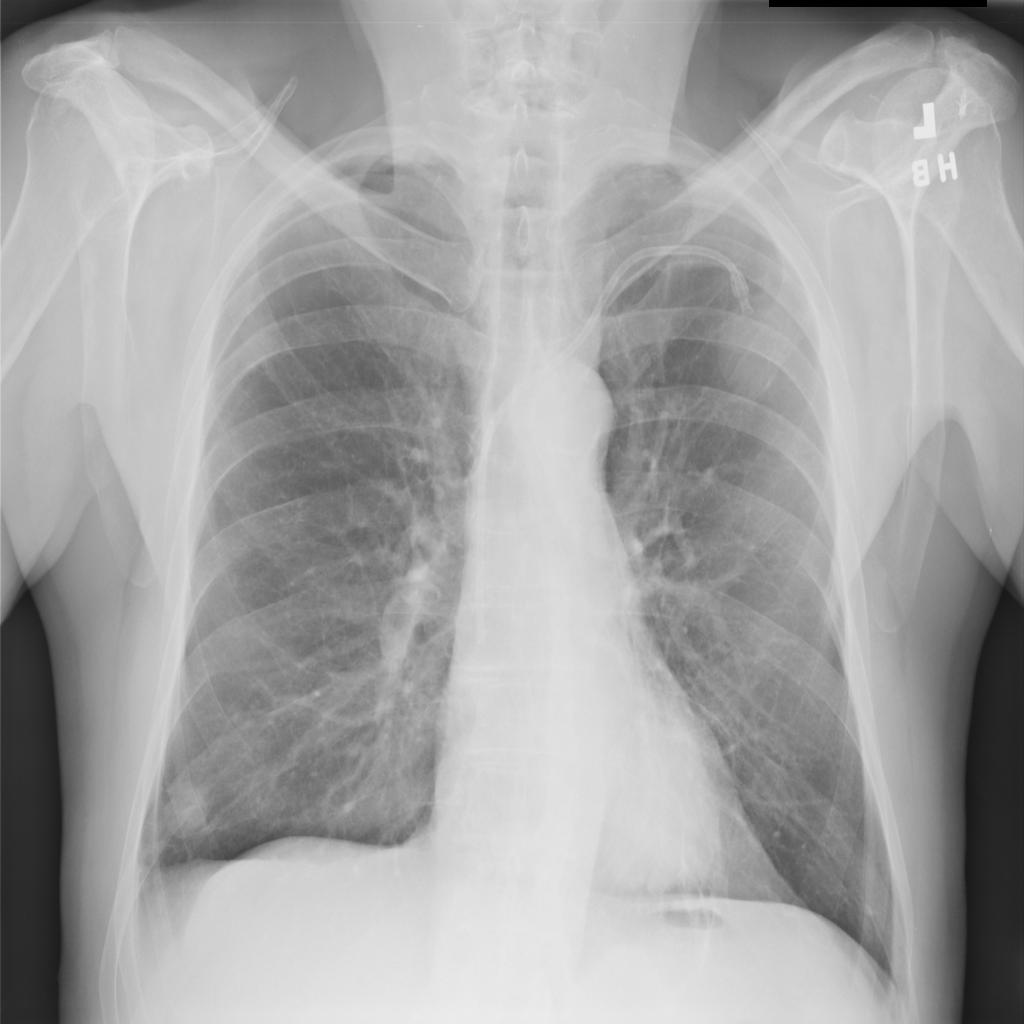nodule: (708, 283, 807, 408), (152, 762, 226, 845)
